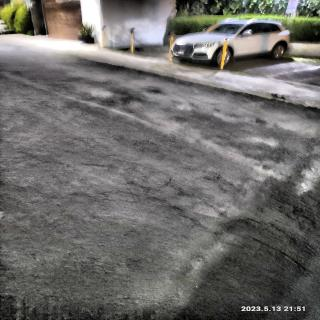crack: (137, 172, 320, 269), (101, 273, 197, 320)
